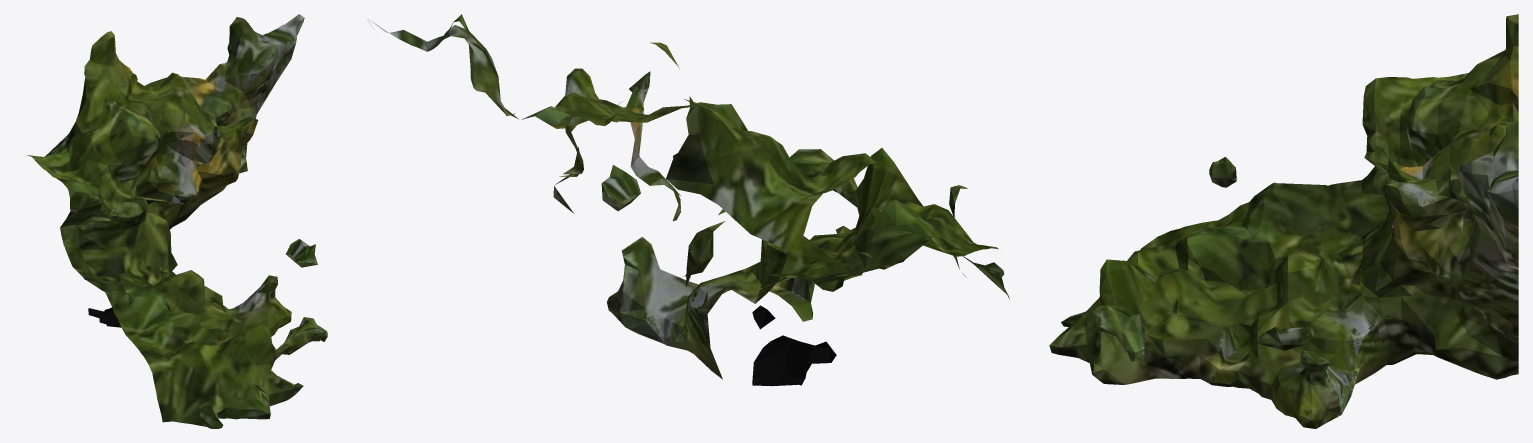
3 views of the same model, side by side, from view 1: azimuth 30°, elevation 25°; view 2: azimuth 150°, elevation 25°; view 3: azimuth 270°, elevation 25° (orthographic). The views are drawn at different scales.
Size of the model in its own units: 0.7793 by 0.6628 by 0.809.
3 materials, 3 textured.
